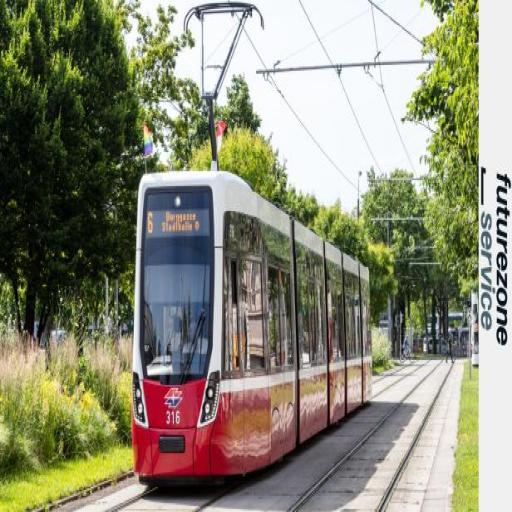Flexity: (129, 166, 373, 488)
